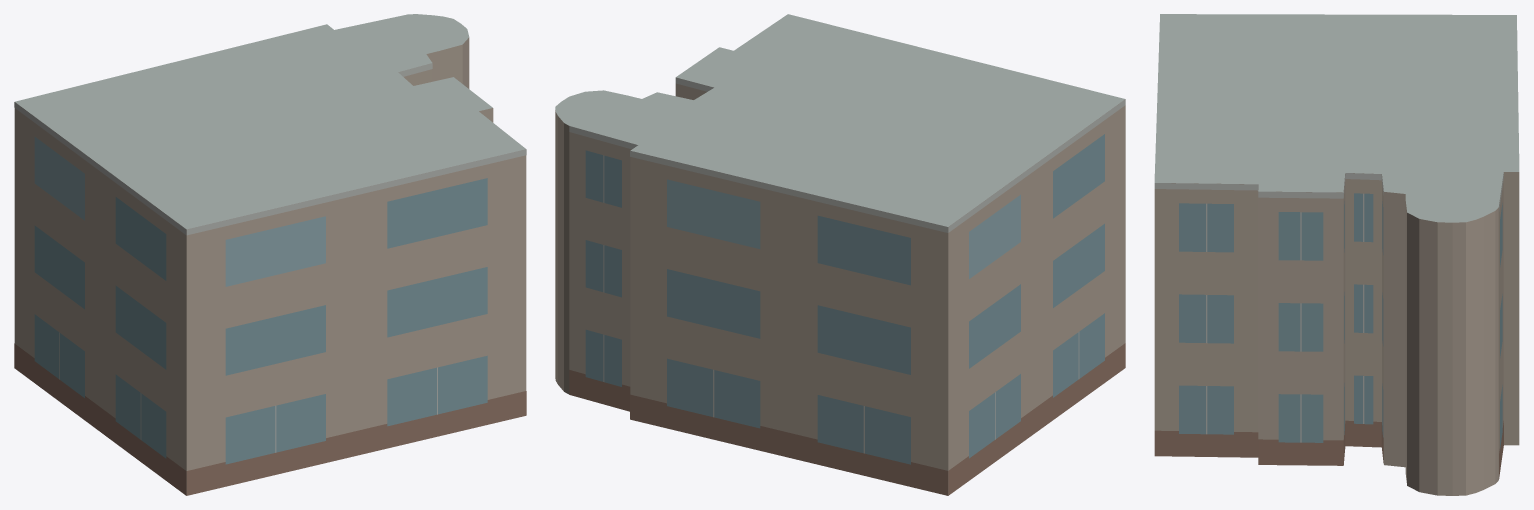
File: survey-upis-32839195.glb
The picture shows the model from 3 angles, left to right: view 1: azimuth 30°, elevation 25°; view 2: azimuth 150°, elevation 25°; view 3: azimuth 270°, elevation 25°; orthographic projection. The views are drawn at different scales.
Parts seen in each view (by area): view 1: survey-upis-32839195.tmp; view 2: survey-upis-32839195.tmp; view 3: survey-upis-32839195.tmp.
Part boxes in pixels (<box>): survey-upis-32839195.tmp: <box>14,14,526,495</box>; survey-upis-32839195.tmp: <box>555,14,1125,495</box>; survey-upis-32839195.tmp: <box>1154,14,1519,495</box>.
Bounding box in the file's own units: 17.68 × 10.8 × 13.08.
